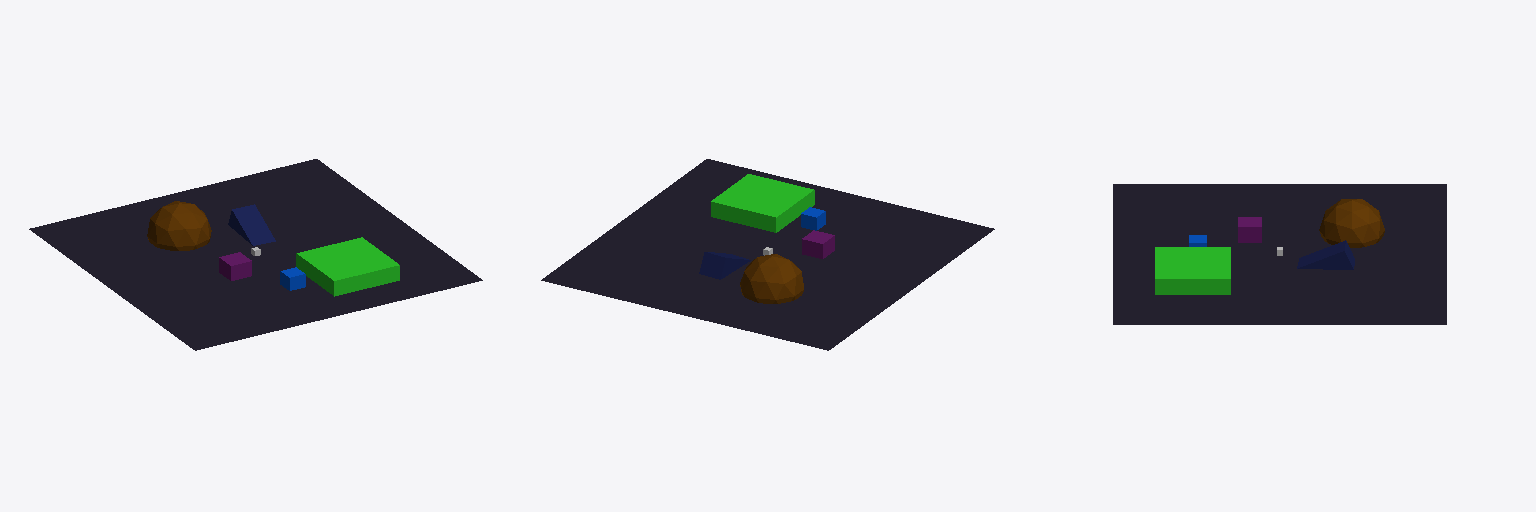
Rendered from map6.obj.
The picture shows the model from 3 angles: view 1: azimuth 30°, elevation 25°; view 2: azimuth 150°, elevation 25°; view 3: azimuth 270°, elevation 25°; orthographic projection.
Parts seen in each view (by area): view 1: Plane, Cube.004, Icosphere, Cube.003, Cube.001; view 2: Plane, Cube.004, Icosphere, Cube.003, Cube.001; view 3: Plane, Cube.004, Icosphere, Cube.003, Cube.001.
Boxes of the visible parts, x1=… form: Plane: x1=29, y1=159, x2=482, y2=350; Cube.004: x1=296, y1=237, x2=399, y2=296; Icosphere: x1=147, y1=201, x2=211, y2=250; Cube.003: x1=228, y1=204, x2=275, y2=245; Cube.001: x1=219, y1=252, x2=251, y2=280; Plane: x1=541, y1=159, x2=994, y2=350; Cube.004: x1=711, y1=174, x2=814, y2=232; Icosphere: x1=740, y1=254, x2=803, y2=303; Cube.003: x1=699, y1=252, x2=750, y2=279; Cube.001: x1=802, y1=230, x2=834, y2=258; Plane: x1=1113, y1=184, x2=1446, y2=324; Cube.004: x1=1155, y1=247, x2=1230, y2=294; Icosphere: x1=1319, y1=199, x2=1384, y2=247; Cube.003: x1=1297, y1=240, x2=1354, y2=269; Cube.001: x1=1238, y1=217, x2=1261, y2=242.
Size of the model in its own units: 100 by 23.89 by 100.